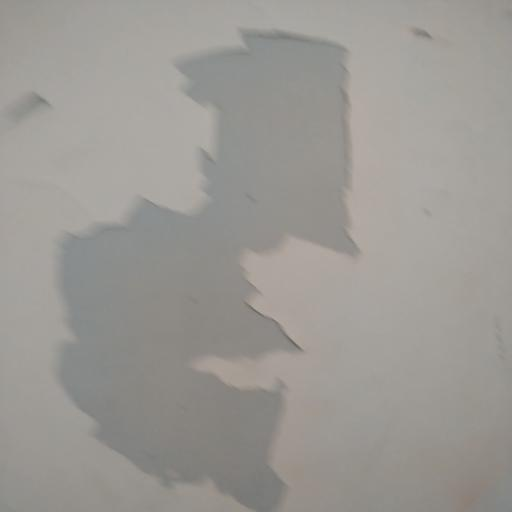peeling: (48, 18, 373, 512)
